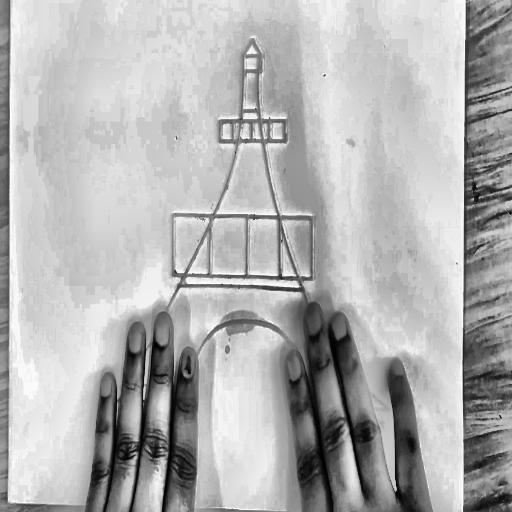bottom_left: (5, 497, 11, 509)
eiffel-tower: (97, 28, 410, 424)
